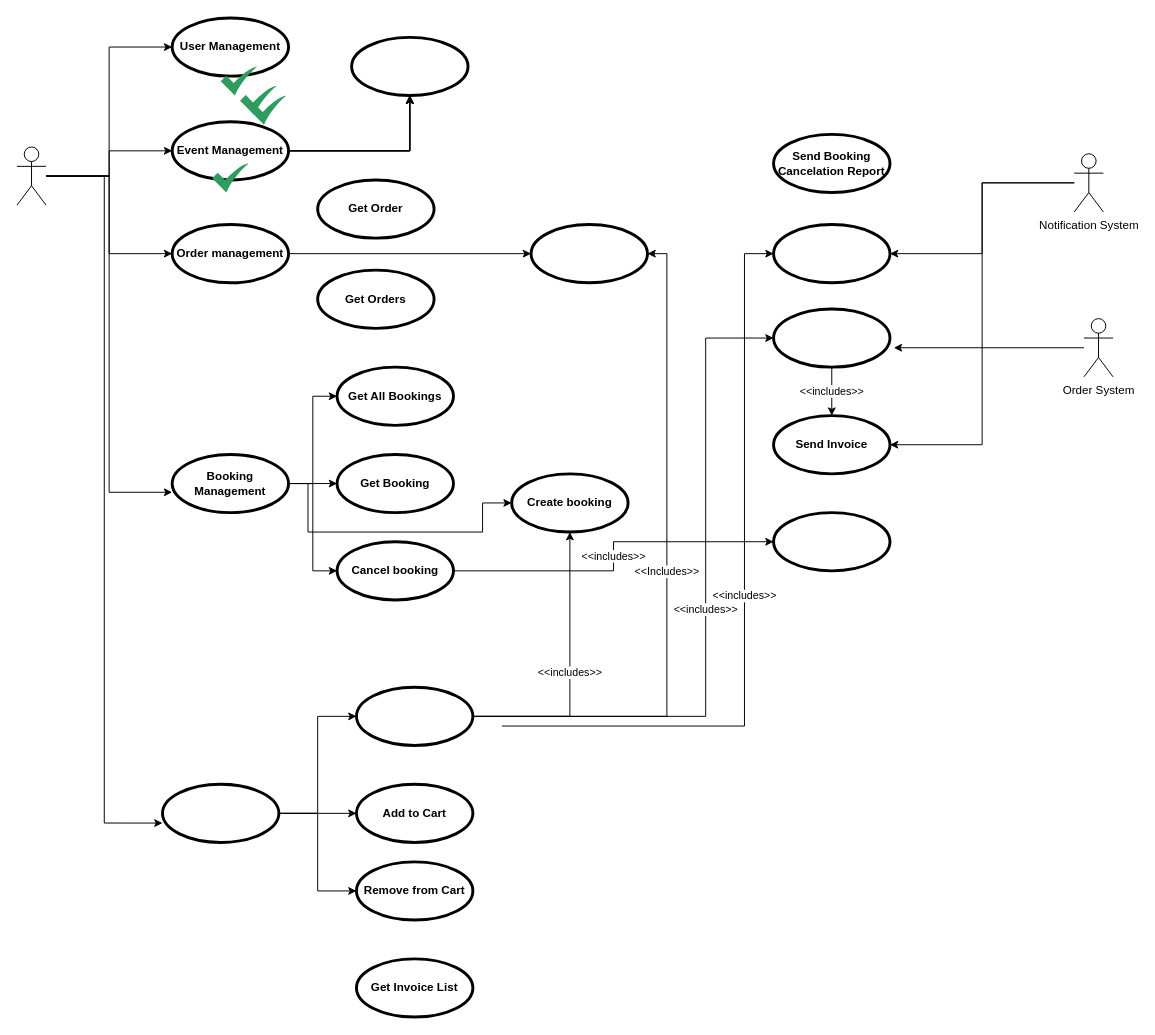
Some shapes in this 1155 by 1035 pixel diagram are drawn without their labels. Each missing label, with the centre of its shape:
"Cart Management" goes at (x=220, y=812).
"Checkout" goes at (x=414, y=715).
"Create Order" goes at (x=588, y=253).
"CRUD Event" goes at (x=409, y=66).
"Generate Invoice" goes at (x=831, y=337).
"Generate Refund" goes at (x=831, y=541).
"Send Booking Confirmation" goes at (x=831, y=253).
"User" goes at (x=31, y=175).
